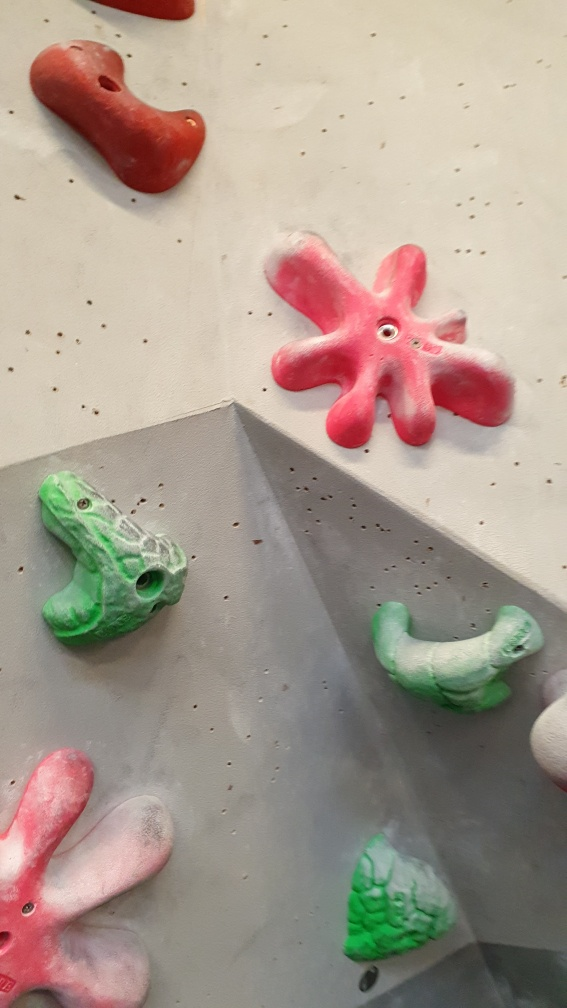Hand Start: (356, 960, 386, 995)
Jug: (373, 595, 542, 727), (342, 828, 461, 968)
Octopus Pinch: (260, 220, 519, 456), (2, 745, 183, 1007)
